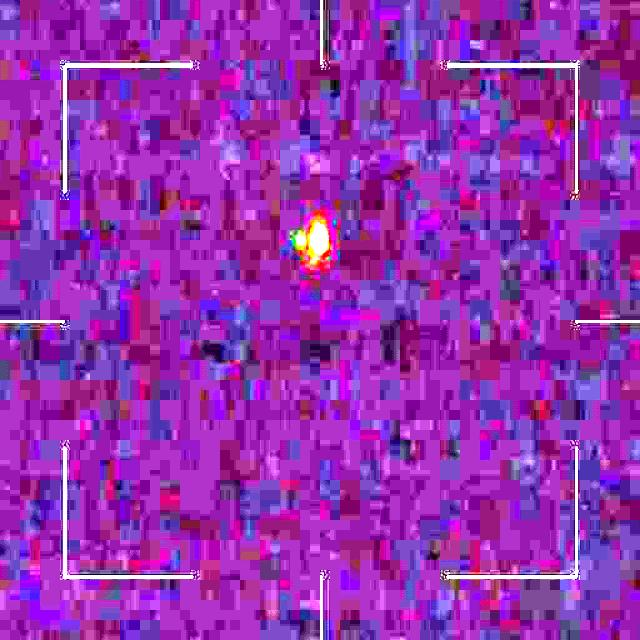bird: (295, 220, 331, 271)
